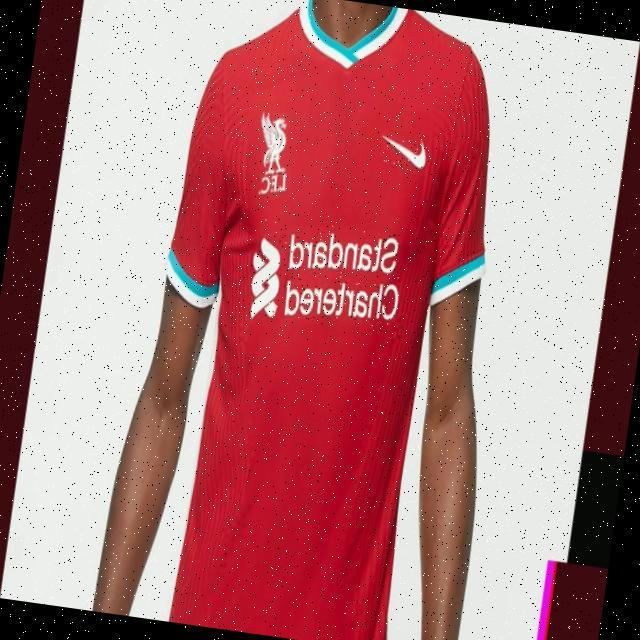Nike: (379, 137, 428, 170)
Standard Chartered: (246, 214, 406, 334)
